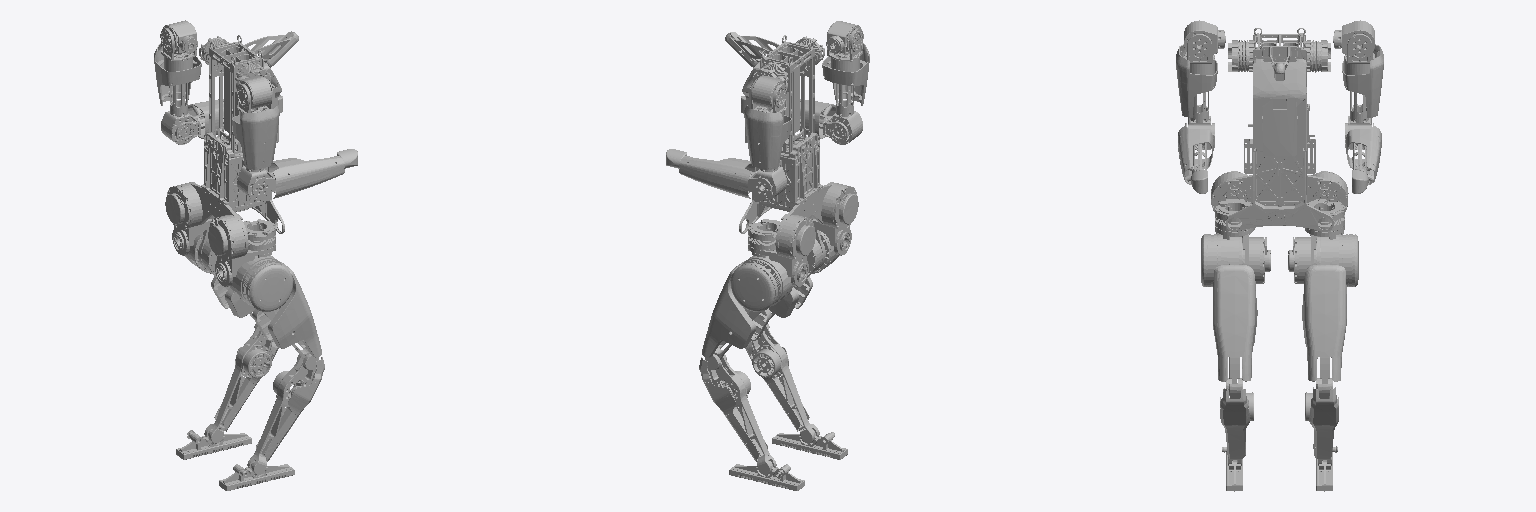
--- Facts derived from the render (not from the file) ---
3 views of the same robot in one strip: view 1: azimuth 30°, elevation 25°; view 2: azimuth 150°, elevation 25°; view 3: azimuth 270°, elevation 25° (orthographic).
Robot: humanoid — 30 links, 29 joints (18 revolute, 11 fixed); root link base_link; default pose: every joint at zero.
Links seen in each view (by area): view 1: base_link, hip_pitch_R, knee_R, knee_L, shoulder_yaw_R, elbow_R, shoulder_yaw_L, hip_roll_R, ankle_L, hip_pitch_L, ankle_R, elbow_L (+4 smaller); view 2: base_link, hip_pitch_L, knee_L, knee_R, shoulder_yaw_L, elbow_L, shoulder_yaw_R, hip_roll_L, ankle_R, hip_pitch_R, ankle_L, elbow_R (+4 smaller); view 3: base_link, hip_pitch_R, hip_pitch_L, knee_L, knee_R, shoulder_yaw_L, shoulder_yaw_R, elbow_R, elbow_L, hip_yaw_R, hip_yaw_L, shoulder_roll_L (+7 smaller).
Link boxes in pixels (x1=…): base_link: x1=165, y1=31, x2=298, y2=261; hip_pitch_R: x1=230, y1=255, x2=321, y2=359; knee_R: x1=247, y1=354, x2=324, y2=476; knee_L: x1=204, y1=324, x2=278, y2=444; shoulder_yaw_R: x1=232, y1=105, x2=279, y2=200; elbow_R: x1=252, y1=149, x2=357, y2=198; shoulder_yaw_L: x1=154, y1=43, x2=201, y2=144; hip_roll_R: x1=215, y1=219, x2=275, y2=286; ankle_L: x1=176, y1=429, x2=251, y2=459; hip_pitch_L: x1=185, y1=231, x2=254, y2=317; ankle_R: x1=219, y1=461, x2=294, y2=490; elbow_L: x1=175, y1=95, x2=282, y2=141; base_link: x1=725, y1=32, x2=858, y2=261; hip_pitch_L: x1=702, y1=255, x2=792, y2=359; knee_L: x1=699, y1=354, x2=776, y2=476; knee_R: x1=745, y1=324, x2=819, y2=444; shoulder_yaw_L: x1=744, y1=105, x2=791, y2=200; elbow_L: x1=666, y1=149, x2=771, y2=198; shoulder_yaw_R: x1=822, y1=43, x2=869, y2=144; hip_roll_L: x1=748, y1=219, x2=808, y2=286; ankle_R: x1=772, y1=429, x2=847, y2=459; hip_pitch_R: x1=769, y1=231, x2=838, y2=317; ankle_L: x1=729, y1=461, x2=804, y2=490; elbow_R: x1=741, y1=96, x2=848, y2=142; base_link: x1=1211, y1=28, x2=1348, y2=231; hip_pitch_R: x1=1201, y1=234, x2=1257, y2=383; hip_pitch_L: x1=1302, y1=234, x2=1358, y2=383; knee_L: x1=1305, y1=378, x2=1338, y2=465; knee_R: x1=1220, y1=378, x2=1253, y2=465; shoulder_yaw_L: x1=1342, y1=44, x2=1383, y2=149; shoulder_yaw_R: x1=1176, y1=44, x2=1217, y2=149; elbow_R: x1=1178, y1=123, x2=1214, y2=193; elbow_L: x1=1345, y1=123, x2=1381, y2=193; hip_yaw_R: x1=1215, y1=231, x2=1270, y2=283; hip_yaw_L: x1=1288, y1=231, x2=1343, y2=283; shoulder_roll_L: x1=1344, y1=34, x2=1374, y2=74.
Size in the robot's own frame: 0.3995 by 0.5463 by 1.27 metres.
Meshes: 19 distinct files referenced, 19 mesh visuals loaded (19 binary STL).

URDF robot description (humanoid):
<?xml version="1.0" encoding="utf-8"?>
<!-- This URDF was automatically created by SolidWorks to URDF Exporter! Originally created by Stephen Brawner ([email redacted]) 
     Commit Version: 1.6.0-4-g7f85cfe  Build Version: 1.6.7995.38578
     For more information, please see http://wiki.ros.org/sw_urdf_exporter -->

<robot name="humanoid">
    <link name="base_link">
        <inertial>
            <origin
                    xyz="-0.07499 0 0.15348"
                    rpy="0 0 0"/>
            <mass value="15.039"/>
            <inertia
                    ixx="695828.4439E-06"
                    ixy="-208.3335E-06"
                    ixz="-83638.2892E-06"
                    iyy="633402.2618E-06"
                    iyz="-456.6817E-06"
                    izz="126094.4269E-06"/>
        </inertial>
        <!-- <inertial>
          <origin
            xyz="-0.075 0 0.175"
            rpy="0 0 0" />
          <mass value="19.84" />
          <inertia
            ixx="0.961373"
            ixy="0.000081"
            ixz="-0.093178"
            iyy="0.894036"
            iyz="-0.000026"
            izz="0.183043" />
        </inertial> -->
        <visual>
            <origin
                    xyz="0 0 0"
                    rpy="0 0 0"/>
            <geometry>
                <mesh filename="../meshes/base_link.STL"/>
            </geometry>
            <material name="">
                <color rgba="0.752941176470588 0.752941176470588 0.752941176470588 1"/>
            </material>
        </visual>
        <!--        <collision>-->
        <!--            <origin-->
        <!--                    xyz="0 0 0"-->
        <!--                    rpy="0 0 0"/>-->
        <!--            <geometry>-->
        <!--                <mesh filename="../meshes/base_link.STL"/>-->
        <!--            </geometry>-->
        <!--        </collision>-->

        <collision>
            <origin
                    xyz="-0.07 0 0.25"
                    rpy="0 0 0"/>
            <geometry>
                <box size="0.24 0.3 0.5"/>
            </geometry>
        </collision>
<!--        <collision>-->
<!--            <origin-->
<!--                    xyz="-0.07 0 0.55"-->
<!--                    rpy="0 0 0"/>-->
<!--            <geometry>-->
<!--                <box size="0.1 0.1 0.1"/>-->
<!--            </geometry>-->
<!--        </collision>-->
        <collision>
            <origin
                    xyz="-0.08 0 0.66"
                    rpy="0 0 0"/>
            <geometry>
                <box size="0.24 0.14 0.14"/>
            </geometry>
        </collision>
    </link>

    <!-- left arm -->
    <joint name="shoulder_pitch_L" type="revolute">
        <origin xyz="-0.0623 0.1458 0.43874" rpy="0 0 0"/>
        <parent link="base_link"/>
        <child link="shoulder_pitch_L"/>
        <axis xyz="0 -1 0"/>
        <dynamics damping="0.05" friction="0.01"/>
        <limit
                lower="-1.0472"
                upper="3.1416"
                effort="35"
                velocity="50"/>
    </joint>
    <link name="shoulder_pitch_L">
        <inertial>
            <origin
                    xyz="-0.001548 0.05491 0"
                    rpy="0 0 0"/>
            <mass
                    value="0.851488"/>
            <inertia
                    ixx="894.9979E-06"
                    ixy="22.9499E-06"
                    ixz="0"
                    iyy="639.6178E-06"
                    iyz="0"
                    izz="917.4256E-06"/>
        </inertial>
        <visual>
            <origin
                    xyz="0 0 0"
                    rpy="0 0 0"/>
            <geometry>
                <mesh filename="../meshes/shoulder_pitch_L.STL"/>
            </geometry>
            <material name="">
                <color rgba="0.752941176470588 0.752941176470588 0.752941176470588 1"/>
            </material>
        </visual>
        <!--        <collision>-->
        <!--            <origin-->
        <!--                    xyz="0 0 0"-->
        <!--                    rpy="0 0 0"/>-->
        <!--            <geometry>-->
        <!--                <mesh filename="../meshes/shoulder_pitch_L.STL"/>-->
        <!--            </geometry>-->
        <!--        </collision>-->
        <collision>
            <origin
                    xyz="0.0 0.06 0.0"
                    rpy="0 1.571 0"/>
            <geometry>
                <cylinder radius="0.04" length="0.08"/>
            </geometry>
        </collision>
    </link>

    <joint name="shoulder_roll_L" type="revolute">
        <origin xyz="0 0.0641 0" rpy="0 0 0"/>
        <parent link="shoulder_pitch_L"/>
        <child link="shoulder_roll_L"/>
        <axis xyz="-1 0 0"/>
        <dynamics damping="0.05" friction="0.01"/>
        <limit
                lower="-3.1416"
                upper="0.1745"
                effort="35"
                velocity="50"/>
    </joint>
    <link name="shoulder_roll_L">
        <inertial>
            <origin
                    xyz="0.001833 0 -0.06980"
                    rpy="0 0 0"/>
            <mass
                    value="0.764557"/>
            <inertia
                    ixx="1030.1517E-06"
                    ixy="0"
                    ixz="-102.4104E-06"
                    iyy="1134.7227E-06"
                    iyz="0"
                    izz="682.6456E-06"/>
        </inertial>
        <visual>
            <origin
                    xyz="0 0 0"
                    rpy="0 0 0"/>
            <geometry>
                <mesh filename="../meshes/shoulder_roll_L.STL"/>
            </geometry>
            <material name="">
                <color rgba="0.752941176470588 0.752941176470588 0.752941176470588 1"/>
            </material>
        </visual>
        <!--        <collision>-->
        <!--            <origin-->
        <!--                    xyz="0 0 0"-->
        <!--                    rpy="0 0 0"/>-->
        <!--            <geometry>-->
        <!--                <mesh filename="../meshes/shoulder_roll_L.STL"/>-->
        <!--            </geometry>-->
        <!--        </collision>-->
        <collision>
            <origin
                    xyz="0.0 0.01 -0.13"
                    rpy="0 0 0"/>
            <geometry>
                <cylinder radius="0.04" length="0.16"/>
            </geometry>
        </collision>
<!--        <collision>-->
<!--            <origin-->
<!--                    xyz="0.0 -0.01 -0.1"-->
<!--                    rpy="0 0 0"/>-->
<!--            <geometry>-->
<!--                <box size="0.12 0.06 0.06"/>-->
<!--            </geometry>-->
<!--        </collision>-->
    </link>

    <joint name="shoulder_yaw_L" type="revolute">
        <origin xyz="0 0 -0.1109" rpy="0 0 0"/>
        <parent link="shoulder_roll_L"/>
        <child link="shoulder_yaw_L"/>
        <axis xyz="0 0 1"/>
        <dynamics damping="0.05" friction="0.01"/>
        <limit
                lower="-1.5708"
                upper="1.5708"
                effort="35"
                velocity="50"/>
    </joint>
    <link name="shoulder_yaw_L">
        <inertial>
            <origin
                    xyz="0 -0.001710 -0.13998"
                    rpy="0 0 0"/>
            <mass
                    value="0.908036"/>
            <inertia
                    ixx="2670.8017E-06"
                    ixy="0"
                    ixz="2.0447E-06"
                    iyy="2637.7492E-06"
                    iyz="-34.5485E-06"
                    izz="653.1337E-06"/>
        </inertial>
        <!-- <inertial>
          <origin
            xyz="-0.001 0.00336 -0.11497"
            rpy="0 0 0" />
          <mass
            value="1.1127" />
          <inertia
            ixx="6461.36E-06"
            ixy="0"
            ixz="-14.349E-06"
            iyy="6372.43E-06"
            iyz="-643.994E-06"
            izz="1271.79E-06" />
        </inertial> -->
        <visual>
            <origin
                    xyz="0 0 0"
                    rpy="0 0 0"/>
            <geometry>
                <mesh filename="../meshes/shoulder_yaw_L.STL"/>
            </geometry>
            <material name="">
                <color rgba="0.752941176470588 0.752941176470588 0.752941176470588 1"/>
            </material>
        </visual>
        <!--        <collision>-->
        <!--            <origin-->
        <!--                    xyz="0 0 0"-->
        <!--                    rpy="0 0 0"/>-->
        <!--            <geometry>-->
        <!--                <mesh filename="../meshes/shoulder_yaw_L.STL"/>-->
        <!--            </geometry>-->
        <!--        </collision>-->
    </link>

    <joint name="elbow_L" type="revolute">
        <origin xyz="0 0 -0.16301" rpy="0 0 0"/>
        <parent link="shoulder_yaw_L"/>
        <child link="elbow_L"/>
        <axis xyz="0 1 0"/>
        <dynamics damping="0.05" friction="0.01"/>
        <limit
                lower="-0.6109"
                upper="1.5708"
                effort="35"
                velocity="50"/>
    </joint>
    <link name="elbow_L">
        <inertial>
            <origin
                    xyz="0.12777 0.003579 0"
                    rpy="0 0 0"/>
            <mass
                    value="0.301673"/>
            <inertia
                    ixx="201.9001E-06"
                    ixy="187.8700E-06"
                    ixz="0"
                    iyy="3782.4848E-06"
                    iyz="0"
                    izz="3872.6529E-06"/>
        </inertial>
        <!-- <inertial>
          <origin
            xyz="0.1283 0.0119 -0.00085"
            rpy="0 0 0" />
          <mass
            value="0.511" />
          <inertia
            ixx="553.0655E-06"
            ixy="123.036E-06"
            ixz="28.043E-06"
            iyy="4629.608E-06"
            iyz="-0.83E-06"
            izz="4761.379E-06" />
        </inertial> -->
        <visual>
            <origin
                    xyz="0 0 0"
                    rpy="0 0 0"/>
            <geometry>
                <mesh filename="../meshes/elbow_L.STL"/>
            </geometry>
            <material name="">
                <color rgba="0.752941176470588 0.752941176470588 0.752941176470588 1"/>
            </material>
        </visual>
        <collision>
            <origin
                    xyz="0 0 0"
                    rpy="0 0 0"/>
            <geometry>
                <mesh filename="../meshes/elbow_L.STL"/>
            </geometry>
        </collision>
    </link>

    <!-- left arm contact -->
    <joint name="contact_hand_joint_L" type="fixed" dont_collapse="true">
        <origin xyz="0.36062 0.0 0.0" rpy="0 0 0"/>
        <parent link="elbow_L"/>
        <child link="contact_hand_L"/>
    </joint>
    <link name="contact_hand_L">
        <inertial>
            <origin xyz=".0 .0 .0" rpy="0 0 0"/>
            <mass value="0.001"/>
            <inertia ixx="0.0000001" ixy="0.0" ixz="0.0" iyy="0.0000001" iyz="0.0" izz="0.0000001"/>
        </inertial>
    </link>

    <!-- Left Leg -->
    <joint name="hip_roll_L" type="revolute">
        <origin xyz="-0.1163 0.118 -0.13276" rpy="0 0 0"/>
        <parent link="base_link"/>
        <child link="hip_roll_L"/>
        <axis xyz="-1 0 0"/>
        <!-- <dynamics damping="0.05" friction="0.01"/> -->
        <limit
                lower="-0.7854"
                upper="0.7854"
                effort="120"
                velocity="50"/>
    </joint>
    <link name="hip_roll_L">
        <inertial>
            <origin
                    xyz="0.08529 0.000132 0.06664"
                    rpy="0 0 0"/>
            <mass
                    value="1.3618"/>
            <inertia
                    ixx="2449.4448E-06"
                    ixy="-19.0628E-06"
                    ixz="-1484.0294E-06"
                    iyy="4603.9707E-06"
                    iyz="2.6742E-06"
                    izz="4271.1635E-06"/>
        </inertial>
        <visual>
            <origin
                    xyz="0 0 0"
                    rpy="0 0 0"/>
            <geometry>
                <mesh filename="../meshes/hip_roll_L.STL"/>
            </geometry>
            <material name="">
                <color rgba="0.752941176470588 0.752941176470588 0.752941176470588 1"/>
            </material>
        </visual>
        <!--        <collision>
                    <origin
                            xyz="0 0 0"
                            rpy="0 0 0"/>
                    <geometry>
                        <mesh filename="../meshes/hip_roll_L.STL"/>
                    </geometry>
                </collision>-->
        <collision>
            <origin
                    xyz="-0.03 0 0"
                    rpy="0 1.57 0"/>
            <geometry>
                <cylinder radius="0.07" length="0.08"/>
            </geometry>
        </collision>
        <!--        <collision>-->
        <!--            <origin-->
        <!--                    xyz="0.11 0.0 0.08"-->
        <!--                    rpy="0 0 0"/>-->
        <!--            <geometry>-->
        <!--                <cylinder radius="0.06" length="0.04"/>-->
        <!--            </geometry>-->
        <!--        </collision>-->
    </link>

    <joint name="hip_yaw_L" type="revolute">
        <origin xyz="0.113 0 0.0615" rpy="0 0 0"/>
        <parent link="hip_roll_L"/>
        <child link="hip_yaw_L"/>
        <axis xyz="0 0 -1"/>
        <!-- <dynamics damping="0.05" friction="0.01"/> -->
        <limit
                lower="-0.5236"
                upper="0.5236"
                effort="120"
                velocity="50"/>
    </joint>
    <link name="hip_yaw_L">
        <inertial>
            <origin
                    xyz="0 -0.04736 -0.09033"
                    rpy="0 0 0"/>
            <mass
                    value="1.7157"/>
            <inertia
                    ixx="3893.3471E-06"
                    ixy="0.059E-06"
                    ixz="0.03E-06"
                    iyy="4558.4486E-06"
                    iyz="-763.8558E-06"
                    izz="2502.9644E-06"/>
        </inertial>
        <visual>
            <origin
                    xyz="0 0 0"
                    rpy="0 0 0"/>
            <geometry>
                <mesh filename="../meshes/hip_yaw_L.STL"/>
            </geometry>
            <material name="">
                <color rgba="0.752941176470588 0.752941176470588 0.752941176470588 1"/>
            </material>
        </visual>
<!--        <collision>-->
<!--            <origin-->
<!--                    xyz="0 0 0"-->
<!--                    rpy="0 0 0"/>-->
<!--            <geometry>-->
<!--                <mesh filename="../meshes/hip_yaw_L.STL"/>-->
<!--            </geometry>-->
<!--        </collision>-->
    </link>

    <joint name="hip_pitch_L" type="revolute">
        <origin xyz="0 -0.03 -0.1025" rpy="0 0 0"/>
        <parent link="hip_yaw_L"/>
        <child link="hip_pitch_L"/>
        <axis xyz="0 -1 0"/>
        <!-- <dynamics damping="0.05" friction="0.01"/> -->
        <limit
                lower="-1.396"
                upper="1.431"
                effort="120"
                velocity="50"/>
    </joint>
    <link name="hip_pitch_L">
        <inertial>
            <origin
                    xyz="0.01593 0.05485 -0.02497"
                    rpy="0 0 0"/>
            <mass
                    value="3.6457"/>
            <inertia
                    ixx="22877.1485E-06"
                    ixy="1386.3814E-06"
                    ixz="9041.5498E-06"
                    iyy="30232.4786E-06"
                    iyz="-2200.0538E-06"
                    izz="12505.3587E-06"/>
        </inertial>
        <!-- <inertial>
          <origin
            xyz="0.0263 0.05314 -0.032758"
            rpy="0 0 0" />
          <mass
            value="4.086" />
          <inertia
            ixx="27414.543E-06"
            ixy="2417.5072E-06"
            ixz="12488.7859E-06"
            iyy="37932.11069E-06"
            iyz="-3083.316E-06"
            izz="17926.7552E-06" />
        </inertial> -->
        <visual>
            <origin
                    xyz="0 0 0"
                    rpy="0 0 0"/>
            <geometry>
                <mesh filename="../meshes/hip_pitch_L.STL"/>
            </geometry>
            <material name="">
                <color rgba="0.752941176470588 0.752941176470588 0.752941176470588 1"/>
            </material>
        </visual>
        <collision>
            <origin
                    xyz="0 0 0"
                    rpy="0 0 0"/>
            <geometry>
                <mesh filename="../meshes/hip_pitch_L.STL"/>
            </geometry>
        </collision>
    </link>

    <joint name="knee_L" type="revolute">
        <origin xyz="0.165 0.012 -0.28579" rpy="0 0 0"/>
        <parent link="hip_pitch_L"/>
        <child link="knee_L"/>
        <axis xyz="0 1 0"/>
        <!-- <dynamics damping="0.05" friction="0.01"/> -->
        <limit
                lower="-0.5236"
                upper="1.0472"
                effort="140"
                velocity="50"/>
    </joint>
    <link name="knee_L">
        <inertial>
            <origin
                    xyz="-0.04996 0.0115 -0.0866"
                    rpy="0 0 0"/>
            <mass
                    value="1.426"/>
            <inertia
                    ixx="6185.4868E-06"
                    ixy="5.585E-06"
                    ixz="-3102.01E-06"
                    iyy="8044.9E-06"
                    iyz="-25.877E-06"
                    izz="2860.5138E-06"/>
        </inertial>
        <!-- <inertial>
          <origin
            xyz="-0.04872 0.01279 -0.09151"
            rpy="0 0 0" />
          <mass
            value="1.6877" />
          <inertia
            ixx="10498.9E-06"
            ixy="-40.121E-06"
            ixz="-3490.738E-06"
            iyy="12960.5066E-06"
            iyz="8.4286E-06"
            izz="3718.99E-06" />
        </inertial> -->
        <visual>
            <origin
                    xyz="0 0 0"
                    rpy="0 0 0"/>
            <geometry>
                <mesh filename="../meshes/knee_L.STL"/>
            </geometry>
            <material name="">
                <color rgba="0.752941176470588 0.752941176470588 0.752941176470588 1"/>
            </material>
        </visual>
        <!--<collision>
            <origin
                    xyz="0 0 0"
                    rpy="0 0 0"/>
            <geometry>
                <mesh filename="../meshes/knee_L.STL"/>
            </geometry>
        </collision>-->
<!--        <collision>-->
<!--            <origin-->
<!--                    xyz="-0.05 0.0 -0.08"-->
<!--                    rpy="1.571 0 0"/>-->
<!--            <geometry>-->
<!--                <cylinder radius="0.04" length="0.06"/>-->
<!--            </geometry>-->
<!--        </collision>-->
        <collision>
            <origin
                    xyz="-0.06 0.02 -0.13"
                    rpy="0 0.7 0"/>
            <geometry>
                <cylinder radius="0.03" length="0.24"/>
            </geometry>
        </collision>
    </link>

    <joint name="ankle_L" type="revolute">
        <origin xyz="-0.165 0.0115 -0.28579" rpy="0 0 0"/>
        <parent link="knee_L"/>
        <child link="ankle_L"/>
        <axis xyz="0 -1 0"/>
        <!-- <dynamics damping="0.05" friction="0.01"/> -->
        <limit
                lower="-1.2566"
                upper="0.6109"
                effort="40"
                velocity="50"/>
    </joint>
    <link name="ankle_L">
        <inertial>
            <origin
                    xyz="-0.007915 0.007272 -0.01708"
                    rpy="0 0 0"/>
            <mass
                    value="0.4823"/>
            <inertia
                    ixx="193.12E-06"
                    ixy="17.53E-06"
                    ixz="44.57E-06"
                    iyy="1209.4185E-06"
                    iyz="-6.3357E-06"
                    izz="1130.584E-06"/>
        </inertial>
        <visual>
            <origin
                    xyz="0 0 0"
                    rpy="0 0 0"/>
            <geometry>
                <mesh filename="../meshes/ankle_L.STL"/>
            </geometry>
            <material name="">
                <color rgba="0.752941176470588 0.752941176470588 0.752941176470588 1"/>
            </material>
        </visual>
        <!--<collision>
            <origin rpy="0 0 0" xyz="0.0 0.0065 0.0"/>
            <geometry>
                <box size="0.216 0.03 0.092"/>
            </geometry>
        </collision>-->
        <collision>
            <origin
                    xyz="0 0 0"
                    rpy="0 0 0"/>
            <geometry>
                <mesh filename="../meshes/ankle_L.STL"/>
            </geometry>
        </collision>
    </link>

    <!-- Left Foot Contact -->
    <joint name="contact_foot_heel_joint_L" type="fixed">
        <origin xyz="-0.108 0.0065 -0.046" rpy="0 0 0"/>
        <parent link="ankle_L"/>
        <child link="contact_foot_heel_L"/>
    </joint>
    <link name="contact_foot_heel_L">
        <inertial>
            <origin xyz=".0 .0 .0" rpy="0 0 0"/>
            <mass value="0.001"/>
            <inertia ixx="0.0000001" ixy="0.0" ixz="0.0" iyy="0.0000001" iyz="0.0" izz="0.0000001"/>
        </inertial>
    </link>

    <joint name="contact_foot_tip_joint_L" type="fixed">
        <origin xyz="0.108 0.0065 -0.046" rpy="0 0 0"/>
        <parent link="ankle_L"/>
        <child link="contact_foot_tip_L"/>
    </joint>
    <link name="contact_foot_tip_L">
        <inertial>
            <origin xyz=".0 .0 .0" rpy="0 0 0"/>
            <mass value="0.001"/>
            <inertia ixx="0.0000001" ixy="0.0" ixz="0.0" iyy="0.0000001" iyz="0.0" izz="0.0000001"/>
        </inertial>
    </link>

    <joint name="contact_foot_center_joint_L" type="fixed">
        <origin xyz="0.0 0.0065 -0.046" rpy="0 0 0"/>
        <parent link="ankle_L"/>
        <child link="contact_foot_center_L"/>
    </joint>
    <link name="contact_foot_center_L">
        <inertial>
            <origin xyz=".0 .0 .0" rpy="0 0 0"/>
            <mass value="0.001"/>
            <inertia ixx="0.0000001" ixy="0.0" ixz="0.0" iyy="0.0000001" iyz="0.0" izz="0.0000001"/>
        </inertial>
    </link>

    <!-- right arm -->
    <joint name="shoulder_pitch_R" type="revolute">
        <origin xyz="-0.0623 -0.1458 0.43874" rpy="0 0 0"/>
        <parent link="base_link"/>
        <child link="shoulder_pitch_R"/>
        <axis xyz="0 -1 0"/>
        <dynamics damping="0.05" friction="0.01"/>
        <limit
                lower="-1.0472"
                upper="3.1416"
                effort="35"
                velocity="50"/>
    </joint>
    <link name="shoulder_pitch_R">
        <inertial>
            <origin
                    xyz="-0.001548 -0.05491 0"
                    rpy="0 0 0"/>
            <mass
                    value="0.851488"/>
            <inertia
                    ixx="894.9979E-06"
                    ixy="-22.9499E-06"
                    ixz="0"
                    iyy="639.6178E-06"
                    iyz="0"
                    izz="917.4256E-06"/>
        </inertial>
        <visual>
            <origin
                    xyz="0 0 0"
                    rpy="0 0 0"/>
            <geometry>
                <mesh filename="../meshes/shoulder_pitch_R.STL"/>
            </geometry>
            <material name="">
                <color rgba="0.752941176470588 0.752941176470588 0.752941176470588 1"/>
            </material>
        </visual>
        <!--        <collision>-->
        <!--            <origin-->
        <!--                    xyz="0 0 0"-->
        <!--                    rpy="0 0 0"/>-->
        <!--            <geometry>-->
        <!--                <mesh filename="../meshes/shoulder_pitch_R.STL"/>-->
        <!--            </geometry>-->
        <!--        </collision>-->
        <collision>
            <origin
                    xyz="0.0 -0.06 0.0"
                    rpy="0 1.571 0"/>
            <geometry>
                <cylinder radius="0.04" length="0.08"/>
            </geometry>
        </collision>
    </link>

    <joint name="shoulder_roll_R" type="revolute">
        <origin xyz="0 -0.0641 0" rpy="0 0 0"/>
        <parent link="shoulder_pitch_R"/>
        <child link="shoulder_roll_R"/>
        <axis xyz="-1 0 0"/>
        <dynamics damping="0.05" friction="0.01"/>
        <limit
                lower="-0.1745"
                upper="3.1416"
                effort="35"
                velocity="50"/>
    </joint>
    <link name="shoulder_roll_R">
        <inertial>
            <origin
                    xyz="0.001833 0 -0.06980"
                    rpy="0 0 0"/>
            <mass
                    value="0.764557"/>
            <inertia
                    ixx="1030.1517E-06"
                    ixy="0"
                    ixz="-102.4104E-06"
                    iyy="1134.7227E-06"
                    iyz="0"
                    izz="682.6456E-06"/>
        </inertial>
        <visual>
            <origin
                    xyz="0 0 0"
                    rpy="0 0 0"/>
            <geometry>
                <mesh filename="../meshes/shoulder_roll_R.STL"/>
            </geometry>
            <material name="">
                <color rgba="0.752941176470588 0.752941176470588 0.752941176470588 1"/>
            </material>
        </visual>
        <!--        <collision>-->
        <!--            <origin-->
        <!--                    xyz="0 0 0"-->
        <!--                    rpy="0 0 0"/>-->
        <!--            <geometry>-->
        <!--                <mesh filename="../meshes/shoulder_roll_R.STL"/>-->
        <!--            </geometry>-->
        <!--        </collision>-->
        <collision>
            <origin
                    xyz="0.0 -0.01 -0.13"
                    rpy="0 0 0"/>
            <geometry>
                <cylinder radius="0.04" length="0.16"/>
            </geometry>
        </collision>
<!--        <collision>-->
<!--            <origin-->
<!--                    xyz="0.0 0.01 -0.1"-->
<!--                    rpy="0 0 0"/>-->
<!--            <geometry>-->
<!--                <box size="0.12 0.06 0.06"/>-->
<!--            </geometry>-->
<!--        </collision>-->
    </link>

    <joint name="shoulder_yaw_R" type="revolute">
        <origin xyz="0 0 -0.1109" rpy="0 0 0"/>
        <parent link="shoulder_roll_R"/>
        <child link="shoulder_yaw_R"/>
        <axis xyz="0 0 1"/>
        <dynamics damping="0.05" friction="0.01"/>
        <limit
                lower="-1.5708"
                upper="1.5708"
                effort="35"
                velocity="50"/>
    </joint>
    <link name="shoulder_yaw_R">
        <inertial>
            <origin
                    xyz="0 0.001710 -0.13998"
                    rpy="0 0 0"/>
            <mass
                    value="0.908036"/>
            <inertia
                    ixx="2670.8017E-06"
                    ixy="0"
                    ixz="2.0447E-06"
                    iyy="2637.7492E-06"
                    iyz="34.5485E-06"
                    izz="653.1337E-06"/>
        </inertial>
        <!-- <inertial>
          <origin
            xyz="-0.001 -0.003 -0.1149"
            rpy="0 0 0" />
          <mass
            value="1.109" />
          <inertia
            ixx="6410.9E-06"
            ixy="0.56E-06"
            ixz="-14.636E-06"
            iyy="6332.364E-06"
            iyz="613.942E-06"
            izz="1258.3E-06" />
        </inertial> -->
        <visual>
            <origin
                    xyz="0 0 0"
                    rpy="0 0 0"/>
            <geometry>
                <mesh filename="../meshes/shoulder_yaw_R.STL"/>
            </geometry>
            <material name="">
                <color rgba="0.752941176470588 0.752941176470588 0.752941176470588 1"/>
            </material>
        </visual>
        <!--        <collision>-->
        <!--            <origin-->
        <!--                    xyz="0 0 0"-->
        <!--                    rpy="0 0 0"/>-->
        <!--            <geometry>-->
        <!--                <mesh filename="../meshes/shoulder_yaw_R.STL"/>-->
        <!--            </geometry>-->
        <!--        </collision>-->
    </link>

    <joint name="elbow_R" type="revolute">
        <origin xyz="0 0 -0.16301" rpy="0 0 0"/>
        <parent link="shoulder_yaw_R"/>
        <child link="elbow_R"/>
        <axis xyz="0 -1 0"/>
        <dynamics damping="0.05" friction="0.01"/>
        <limit
                lower="-1.5708"
                upper="0.6109"
                effort="35"
                velocity="50"/>
    </joint>
    <link name="elbow_R">
        <inertial>
            <origin
                    xyz="0.12777 -0.003579 0"
                    rpy="0 0 0"/>
            <mass
                    value="0.301673"/>
            <inertia
                    ixx="201.9001E-06"
                    ixy="-187.8700E-06"
                    ixz="0"
                    iyy="3782.4848E-06"
                    iyz="0"
                    izz="3872.6529E-06"/>
        </inertial>
        <!-- <inertial>
          <origin
            xyz="0.124 -0.010 -0.001"
            rpy="0 0 0" />
          <mass
            value="0.511" />
          <inertia
            ixx="529.843E-06"
            ixy="-206.636E-06"
            ixz="27.437E-06"
            iyy="4645.489E-06"
            iyz="0.04E-06"
            izz="4753.955E-06" />
        </inertial> -->
        <visual>
            <origin
                    xyz="0 0 0"
                    rpy="0 0 0"/>
            <geometry>
                <mesh filename="../meshes/elbow_R.STL"/>
            </geometry>
            <material name="">
                <color rgba="0.752941176470588 0.752941176470588 0.752941176470588 1"/>
            </material>
        </visual>
        <collision>
            <origin
                    xyz="0 0 0"
                    rpy="0 0 0"/>
            <geometry>
                <mesh filename="../meshes/elbow_R.STL"/>
            </geometry>
        </collision>
    </link>

    <!-- Right hand Contact -->
    <joint name="contact_hand_joint_R" type="fixed" dont_collapse="true">
        <origin xyz="0.36062 0.0 0.0" rpy="0 0 0"/>
        <parent link="elbow_R"/>
        <child link="contact_hand_R"/>
    </joint>
    <link name="contact_hand_R">
        <inertial>
            <origin xyz=".0 .0 .0" rpy="0 0 0"/>
            <mass value="0.001"/>
            <inertia ixx="0.0000001" ixy="0.0" ixz="0.0" iyy="0.0000001" iyz="0.0" izz="0.0000001"/>
        </inertial>
    </link>

    <!-- Right Leg -->
    <joint name="hip_roll_R" type="revolute">
        <origin xyz="-0.1163 -0.118 -0.13276" rpy="0 0 0"/>
        <parent link="base_link"/>
        <child link="hip_roll_R"/>
        <axis xyz="-1 0 0"/>
        <!-- <dynamics damping="0.05" friction="0.01"/> -->
        <limit
                lower="-0.7854"
                upper="0.7854"
                effort="120"
                velocity="50"/>
    </joint>
    <link name="hip_roll_R">
        <inertial>
            <origin
                    xyz="0.08531 -0.000147 0.06664"
                    rpy="0 0 0"/>
            <mass
                    value="1.3618"/>
            <inertia
                    ixx="2418.6857E-06"
                    ixy="15.7907E-06"
                    ixz="-1485.9826E-06"
                    iyy="4635.996E-06"
                    iyz="-1.8214E-06"
                    izz="4272.4298E-06"/>
        </inertial>
        <visual>
            <origin
                    xyz="0 0 0"
                    rpy="0 0 0"/>
            <geometry>
                <mesh filename="../meshes/hip_roll_R.STL"/>
            </geometry>
            <material name="">
                <color rgba="0.752941176470588 0.752941176470588 0.752941176470588 1"/>
            </material>
        </visual>
        <!-- <collision>
          <origin
            xyz="0 0 0"
            rpy="0 0 0" />
          <geometry>
            <mesh filename="../meshes/hip_roll_R.STL" />
          </geometry>
        </collision> -->
        <collision>
            <origin
                    xyz="-0.03 0 0"
                    rpy="0 1.57 0"/>
            <geometry>
                <cylinder radius="0.07" length="0.08"/>
            </geometry>
        </collision>
        <!--        <collision>-->
        <!--            <origin-->
        <!--                    xyz="0.11 0.0 0.08"-->
        <!--                    rpy="0 0 0"/>-->
        <!--            <geometry>-->
        <!--                <cylinder radius="0.06" length="0.04"/>-->
        <!--            </geometry>-->
        <!--        </collision>-->
    </link>

    <joint name="hip_yaw_R" type="revolute">
        <origin xyz="0.113 0 0.0615" rpy="0 0 0"/>
        <parent link="hip_roll_R"/>
        <child link="hip_yaw_R"/>
        <axis xyz="0 0 -1"/>
        <!-- <dynamics damping="0.05" friction="0.01"/> -->
        <limit
                lower="-0.5236"
                upper="0.5236"
                effort="120"
                velocity="50"/>
    </joint>
    <link name="hip_yaw_R">
        <inertial>
            <origin
                    xyz="0 0.04736 -0.09033"
                    rpy="0 0 0"/>
            <mass
                    value="1.7157"/>
            <inertia
                    ixx="3893.3471E-06"
                    ixy="0.059E-06"
                    ixz="-0.03E-06"
                    iyy="4558.4486E-06"
                    iyz="763.8558E-06"
                    izz="2502.9644E-06"/>
        </inertial>
        <visual>
            <origin
                    xyz="0 0 0"
                    rpy="0 0 0"/>
            <geometry>
                <mesh filename="../meshes/hip_yaw_R.STL"/>
            </geometry>
            <material name="">
                <color rgba="0.752941176470588 0.752941176470588 0.752941176470588 1"/>
            </material>
        </visual>
<!--        <collision>-->
<!--            <origin-->
<!--                    xyz="0 0 0"-->
<!--                    rpy="0 0 0"/>-->
<!--            <geometry>-->
<!--                <mesh filename="../meshes/hip_yaw_R.STL"/>-->
<!--            </geometry>-->
<!--        </collision>-->
    </link>

    <joint name="hip_pitch_R" type="revolute">
        <origin xyz="0 0.03 -0.1025" rpy="0 0 0"/>
        <parent link="hip_yaw_R"/>
        <child link="hip_pitch_R"/>
        <axis xyz="0 1 0"/>
        <!-- <dynamics damping="0.05" friction="0.01"/> -->
        <limit
                lower="-1.431"
                upper="1.396"
                effort="120"
                velocity="50"/>
    </joint>
    <link name="hip_pitch_R">
        <inertial>
            <origin
                    xyz="0.01587 -0.05485 -0.02497"
                    rpy="0 0 0"/>
            <mass
                    value="3.6457"/>
            <inertia
                    ixx="22881.5538E-06"
                    ixy="-1377.1792E-06"
                    ixz="9059.3413E-06"
                    iyy="30240.2477E-06"
                    iyz="2197.616E-06"
                    izz="12508.9166E-06"/>
        </inertial>
        <!-- <inertial>
          <origin
            xyz="0.026246 -0.05311 -0.03275"
            rpy="0 0 0" />
          <mass
            value="4.086" />
          <inertia
            ixx="27422.676E-06"
            ixy="-2416.8298E-06"
            ixz="12468.1068E-06"
            iyy="37944.268E-06"
            iyz="3089.7166E-06"
            izz="17938.226E-06" />
        </inertial> -->
        <visual>
            <origin
                    xyz="0 0 0"
                    rpy="0 0 0"/>
            <geometry>
                <mesh filename="../meshes/hip_pitch_R.STL"/>
            </geometry>
            <material name="">
                <color rgba="0.752941176470588 0.752941176470588 0.752941176470588 1"/>
            </material>
        </visual>
        <collision>
            <origin
                    xyz="0 0 0"
                    rpy="0 0 0"/>
            <geometry>
                <mesh filename="../meshes/hip_pitch_R.STL"/>
            </geometry>
        </collision>
    </link>

    <joint name="knee_R" type="revolute">
        <origin xyz="0.165 -0.012 -0.28579" rpy="0 0 0"/>
        <parent link="hip_pitch_R"/>
        <child link="knee_R"/>
        <axis xyz="0 -1 0"/>
        <!-- <dynamics damping="0.05" friction="0.01"/> -->
        <limit
                lower="-1.0472"
                upper="0.5236"
                effort="140"
                velocity="50"/>
    </joint>
    <link name="knee_R">
        <inertial>
            <origin
                    xyz="-0.04997 -0.01151 -0.0866"
                    rpy="0 0 0"/>
            <mass
                    value="1.426"/>
            <inertia
                    ixx="6185.4084E-06"
                    ixy="-4.618E-06"
                    ixz="-3101.73E-06"
                    iyy="8044.4457E-06"
                    iyz="27.741E-06"
                    izz="2860.66E-06"/>
        </inertial>
        <!-- <inertial>
          <origin
            xyz="-0.04872 -0.01279 -0.09151"
            rpy="0 0 0" />
          <mass
            value="1.6877" />
          <inertia
            ixx="10498.9E-06"
            ixy="40.121E-06"
            ixz="-3490.738E-06"
            iyy="12960.5066E-06"
            iyz="-8.4286E-06"
            izz="3718.99E-06" />
        </inertial> -->
        <visual>
            <origin
                    xyz="0 0 0"
                    rpy="0 0 0"/>
            <geometry>
                <mesh filename="../meshes/knee_R.STL"/>
            </geometry>
            <material name="">
                <color rgba="0.752941176470588 0.752941176470588 0.752941176470588 1"/>
            </material>
        </visual>
        <!--<collision>
            <origin
                    xyz="0 0 0"
                    rpy="0 0 0"/>
            <geometry>
                <mesh filename="../meshes/knee_R.STL"/>
            </geometry>
        </collision>-->
<!--        <collision>-->
<!--            <origin-->
<!--                    xyz="-0.05 0.0 -0.08"-->
<!--                    rpy="1.571 0 0"/>-->
<!--            <geometry>-->
<!--                <cylinder radius="0.04" length="0.06"/>-->
<!--            </geometry>-->
<!--        </collision>-->
        <collision>
            <origin
                    xyz="-0.06 -0.02 -0.13"
                    rpy="0 0.7 0"/>
            <geometry>
                <cylinder radius="0.03" length="0.24"/>
            </geometry>
        </collision>
    </link>

    <joint name="ankle_R" type="revolute">
        <origin xyz="-0.165 -0.0115 -0.28579" rpy="0 0 0"/>
        <parent link="knee_R"/>
        <child link="ankle_R"/>
        <axis xyz="0 1 0"/>
        <!-- <dynamics damping="0.05" friction="0.01"/> -->
        <limit
                lower="-0.6109"
                upper="1.2566"
                effort="40"
                velocity="50"/>
    </joint>
    <link name="ankle_R">
        <inertial>
            <origin
                    xyz="-0.007917 -0.007272 -0.01708"
                    rpy="0 0 0"/>
            <mass
                    value="0.4823"/>
            <inertia
                    ixx="193.12E-06"
                    ixy="-17.53E-06"
                    ixz="44.57E-06"
                    iyy="1209.4185E-06"
                    iyz="6.3357E-06"
                    izz="1130.584E-06"/>
        </inertial>
        <visual>
            <origin
                    xyz="0 0 0"
                    rpy="0 0 0"/>
            <geometry>
                <mesh filename="../meshes/ankle_R.STL"/>
            </geometry>
            <material name="">
                <color rgba="0.752941176470588 0.752941176470588 0.752941176470588 1"/>
            </material>
        </visual>
        <!--<collision>
            <origin rpy="0 0 0" xyz="0.0 -0.0065 0.0"/>
            <geometry>
                <box size="0.216 0.03 0.092"/>
            </geometry>
        </collision>-->
        <collision>
            <origin
                    xyz="0 0 0"
                    rpy="0 0 0"/>
            <geometry>
                <mesh filename="../meshes/ankle_R.STL"/>
            </geometry>
        </collision>
    </link>

    <!-- Right Foot Contact -->
    <joint name="contact_foot_heel_joint_R" type="fixed">
        <origin xyz="-0.108 -0.0065 -0.046" rpy="0 0 0"/>
        <parent link="ankle_R"/>
        <child link="contact_foot_heel_R"/>
    </joint>
    <link name="contact_foot_heel_R">
        <inertial>
            <origin xyz=".0 .0 .0" rpy="0 0 0"/>
            <mass value="0.001"/>
            <inertia ixx="0.0000001" ixy="0.0" ixz="0.0" iyy="0.0000001" iyz="0.0" izz="0.0000001"/>
        </inertial>
    </link>

    <joint name="contact_foot_tip_joint_R" type="fixed">
        <origin xyz="0.108 -0.0065 -0.046" rpy="0 0 0"/>
        <parent link="ankle_R"/>
        <child link="contact_foot_tip_R"/>
    </joint>
    <link name="contact_foot_tip_R">
        <inertial>
            <origin xyz=".0 .0 .0" rpy="0 0 0"/>
            <mass value="0.001"/>
            <inertia ixx="0.0000001" ixy="0.0" ixz="0.0" iyy="0.0000001" iyz="0.0" izz="0.0000001"/>
        </inertial>
    </link>

    <joint name="contact_foot_center_joint_R" type="fixed">
        <origin xyz="0.0 -0.0065 -0.046" rpy="0 0 0"/>
        <parent link="ankle_R"/>
        <child link="contact_foot_center_R"/>
    </joint>
    <link name="contact_foot_center_R">
        <inertial>
            <origin xyz=".0 .0 .0" rpy="0 0 0"/>
            <mass value="0.001"/>
            <inertia ixx="0.0000001" ixy="0.0" ixz="0.0" iyy="0.0000001" iyz="0.0" izz="0.0000001"/>
        </inertial>
    </link>

    <!-- ****************************************** D435 Front Camera ******************************************************** -->
    <joint name="d435_joint" type="fixed">
        <!-- <origin rpy="1.5707963267948966 1.0471975511965976 0" xyz="0.20042 0.0 0.27256"/> -->
        <origin rpy="1.5707963  0.9599311 0" xyz="0.15909 0.0 0.46014"/>
        <parent link="base_link"/>
        <child link="d435_link"/>
    </joint>
    <link name="d435_link">
        <!--        <visual>-->
        <!--            <origin rpy="1.5707963267948966 0 1.5707963267948966" xyz="0.0149 -0.0175 0"/>-->
        <!--            <geometry>-->
        <!--                <mesh filename="package://realsense_ros_gazebo/meshes/realsense_d435.stl"/>-->
        <!--            </geometry>-->
        <!--        </visual>-->
        <collision>
            <origin rpy="0 0 0" xyz="0 -0.0175 0"/>
            <geometry>
                <box size="0.02505 0.09 0.025"/>
            </geometry>
        </collision>
        <inertial>
            <mass value="0.564"/>
            <origin rpy="0 0 0" xyz="0 -0.0175 0"/>
            <inertia ixx="0.000410075" ixy="0" ixz="0" iyy="5.8867617499999996e-05" iyz="0"
                     izz="5.8867617499999996e-05"/>
        </inertial>
    </link>
    <joint name="d435_depth_joint" type="fixed">
        <origin rpy="0 0 0" xyz="0 0 0"/>
        <parent link="d435_link"/>
        <child link="d435_depth_frame"/>
    </joint>
    <link name="d435_depth_frame"/>
    <joint name="d435_depth_optical_joint" type="fixed">
        <origin rpy="-1.5707963267948966 0 -1.5707963267948966" xyz="0 0 0"/>
        <parent link="d435_depth_frame"/>
        <child link="d435_depth_optical_frame"/>
    </joint>
    <link name="d435_depth_optical_frame"/>
    <!-- ****************************************** D435 Front Camera END ******************************************************** -->
</robot>
